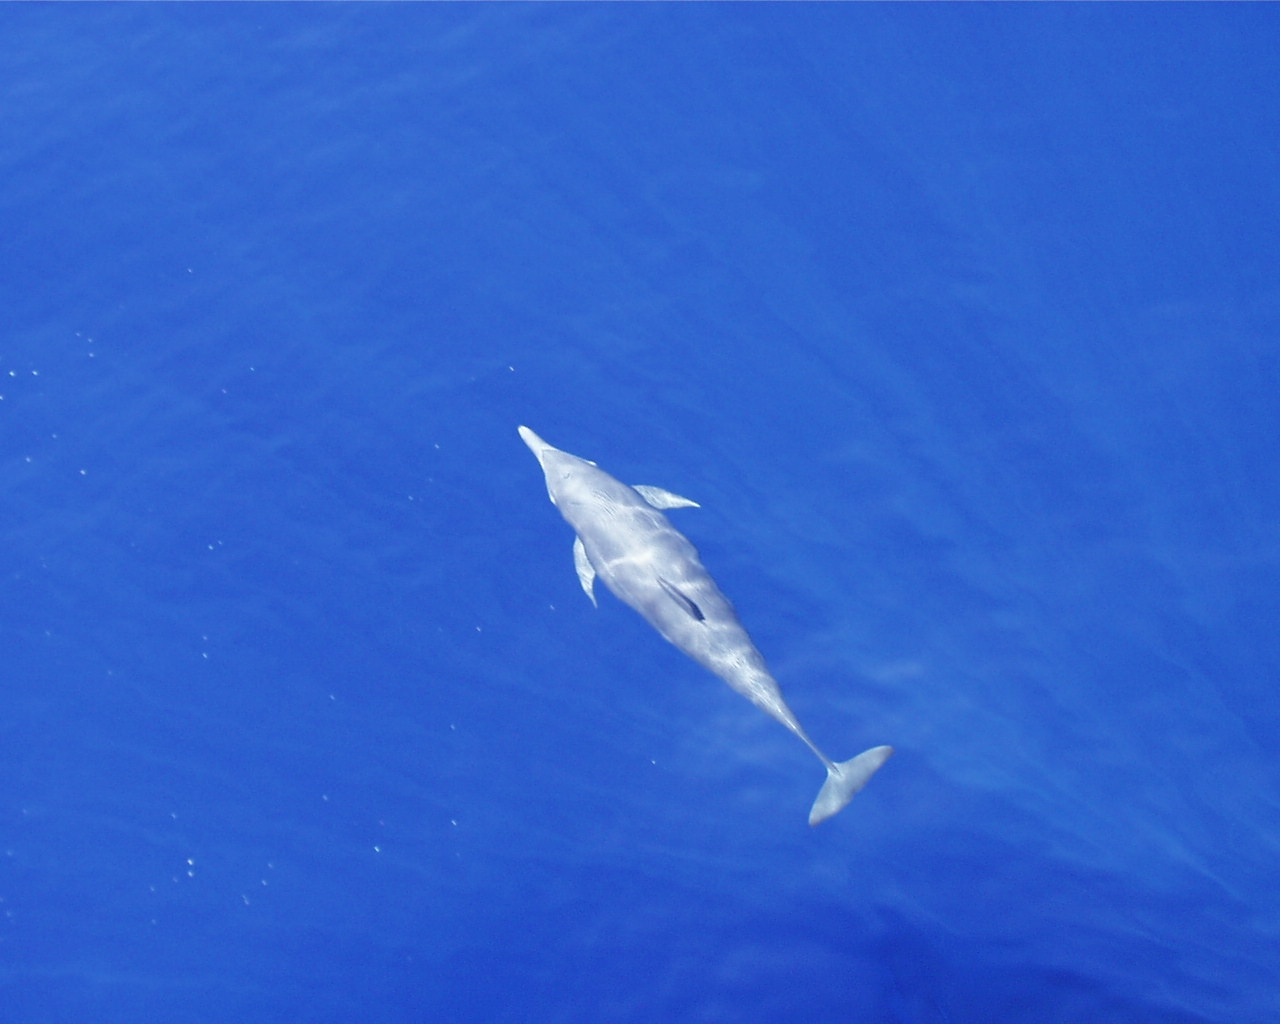dolphin: (510, 422, 897, 829)
